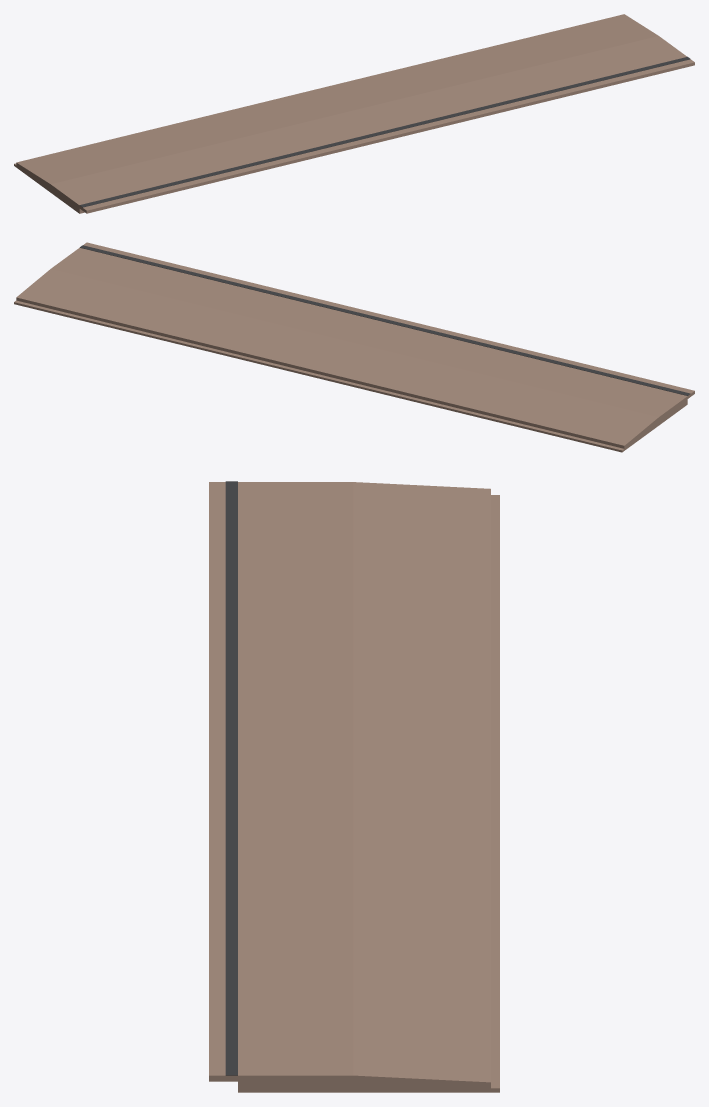
The model's file is TrainStationBase.fbx.
3 renders of one model, top to bottom at view 1: azimuth 30°, elevation 25°; view 2: azimuth 150°, elevation 25°; view 3: azimuth 270°, elevation 25°, orthographic. The views are drawn at different scales.
Visible parts, largest first — view 1: StationBase; view 2: StationBase; view 3: StationBase.
Part boxes in pixels (<box>): StationBase: <box>14,14,694,213</box>; StationBase: <box>14,242,694,452</box>; StationBase: <box>209,481,499,1092</box>.
Bounding box in the file's own units: 6218 × 85.46 × 1290.
